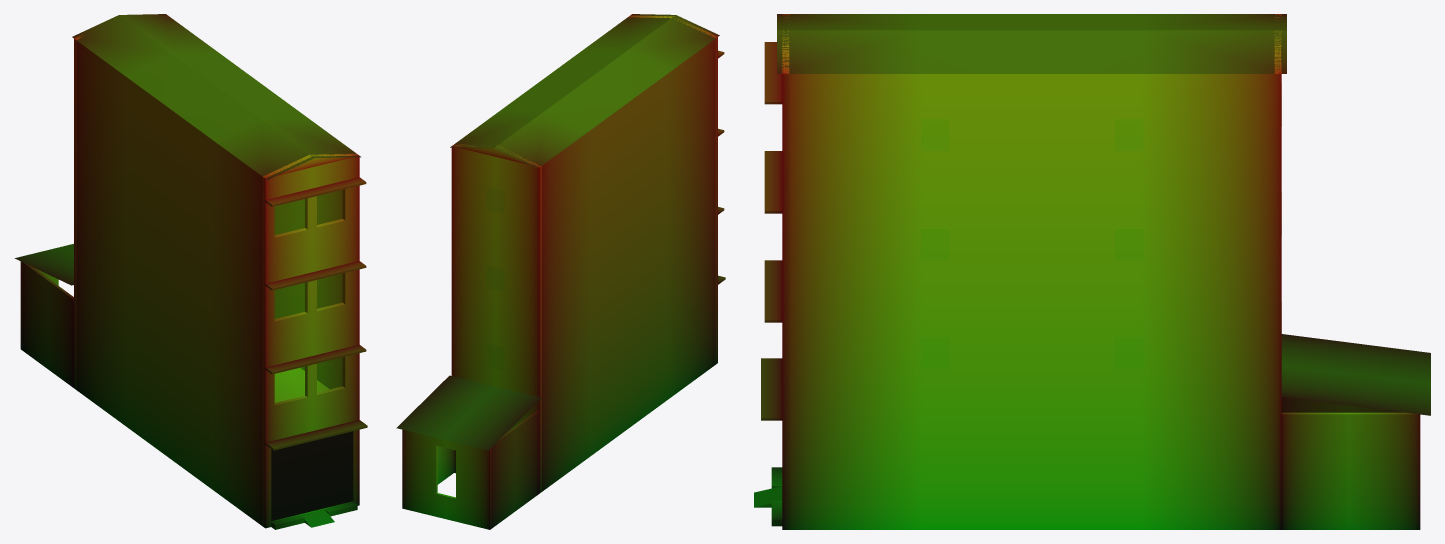
File: nha_ong_cu_4x18.mid.glb
3 views of the same model, side by side, from view 1: azimuth 30°, elevation 25°; view 2: azimuth 150°, elevation 25°; view 3: azimuth 270°, elevation 25° (orthographic). The views are drawn at different scales.
Parts seen in each view (by area): view 1: nha_ong_cu_4x18; view 2: nha_ong_cu_4x18; view 3: nha_ong_cu_4x18.
Part boxes in pixels (<box>): nha_ong_cu_4x18: <box>14,14,367,529</box>; nha_ong_cu_4x18: <box>396,14,725,529</box>; nha_ong_cu_4x18: <box>754,14,1430,529</box>.
Size of what is drawn, in the model's own units: 4.2 by 14.63 by 19.1.
